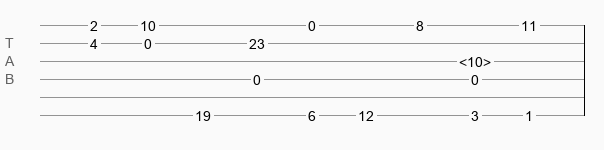0: (144, 36, 152, 46), (253, 72, 261, 82), (308, 18, 316, 28), (471, 72, 479, 82)
1: (525, 108, 533, 118)
10: (140, 18, 156, 28)
11: (521, 18, 537, 28)
12: (358, 108, 374, 118)
19: (195, 108, 211, 118)
2: (90, 18, 98, 28)
23: (249, 36, 265, 46)
3: (471, 108, 479, 118)
4: (90, 36, 98, 46)
6: (308, 108, 316, 118)
8: (416, 18, 424, 28)
harmonic: (459, 54, 491, 64)
